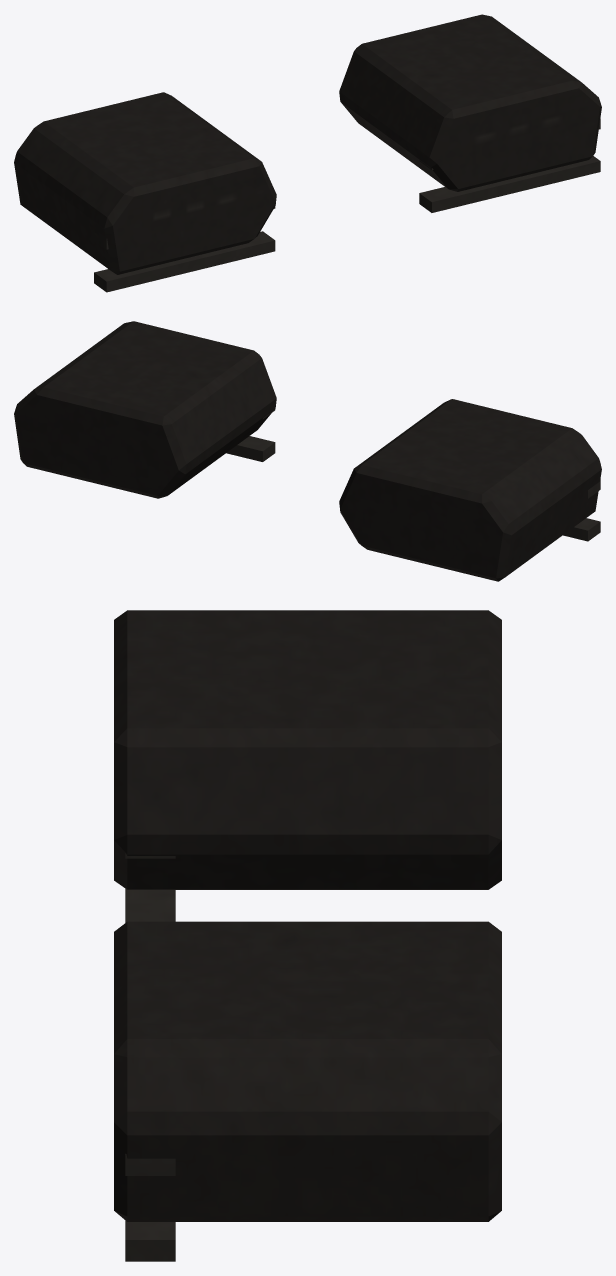
The model's file is armor_guides.obj.
3 views of the same model, one above another, from view 1: azimuth 30°, elevation 25°; view 2: azimuth 150°, elevation 25°; view 3: azimuth 270°, elevation 25° (orthographic). The views are drawn at different scales.
Parts seen in each view (by area): view 1: armor_guides; view 2: armor_guides; view 3: armor_guides.
Part boxes in pixels (<box>): armor_guides: <box>14,14,601,292</box>; armor_guides: <box>14,321,601,581</box>; armor_guides: <box>114,610,501,1261</box>.
Bounding box in the file's own units: 1.81 × 0.3407 × 0.612.
Materials: 1 (1 with a texture image).
